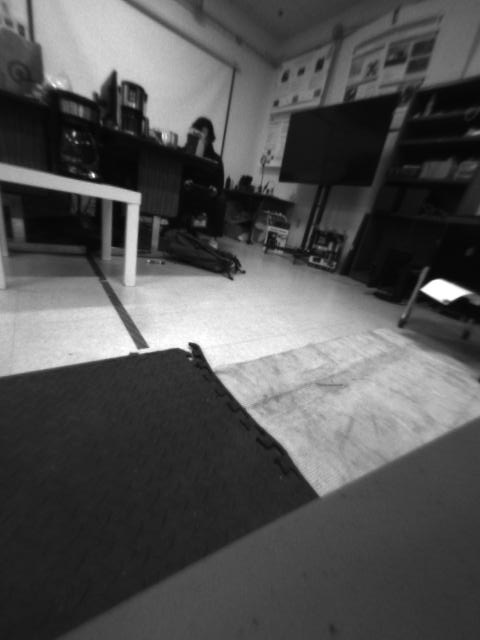coffee_pot: (40, 84, 103, 184)
